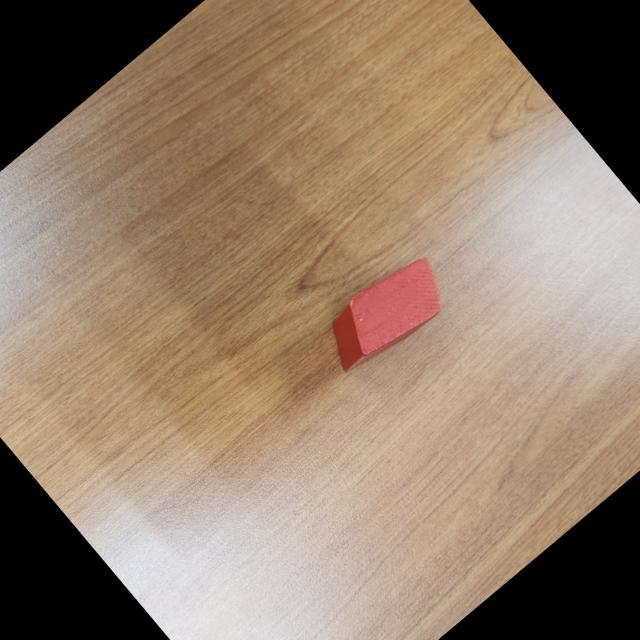red: (309, 244, 460, 386)
